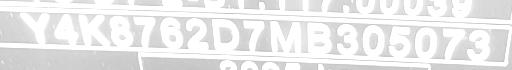letter: (265, 16, 303, 54), (19, 9, 51, 45), (78, 12, 110, 46), (302, 18, 332, 53), (462, 26, 492, 60), (208, 18, 240, 49), (437, 26, 465, 61), (238, 18, 266, 51), (385, 23, 411, 57), (412, 24, 438, 58), (52, 12, 78, 45), (109, 12, 133, 47), (360, 21, 384, 56), (182, 16, 208, 48), (158, 14, 182, 48), (334, 20, 358, 54), (134, 12, 156, 46)
